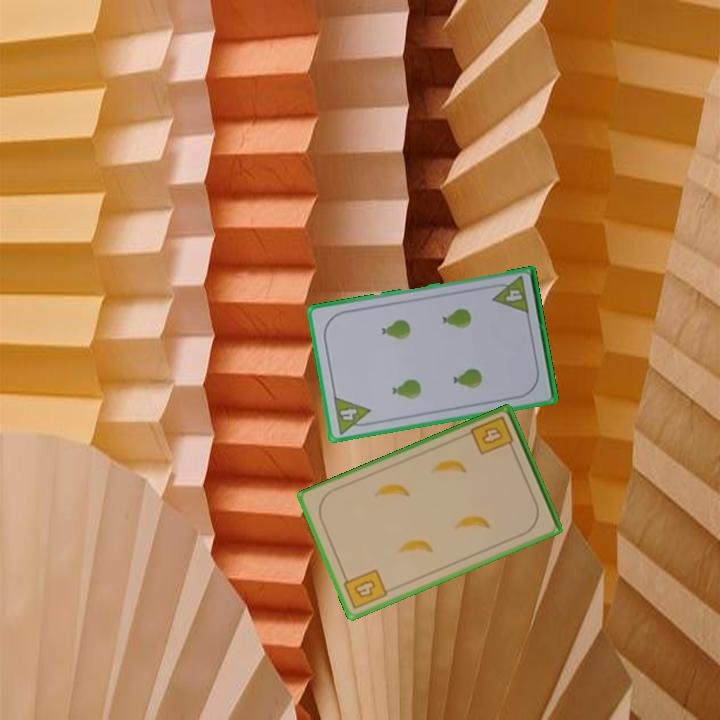4b: (339, 566, 390, 612), (467, 413, 517, 458)
4p: (330, 393, 375, 437), (488, 273, 532, 317)
